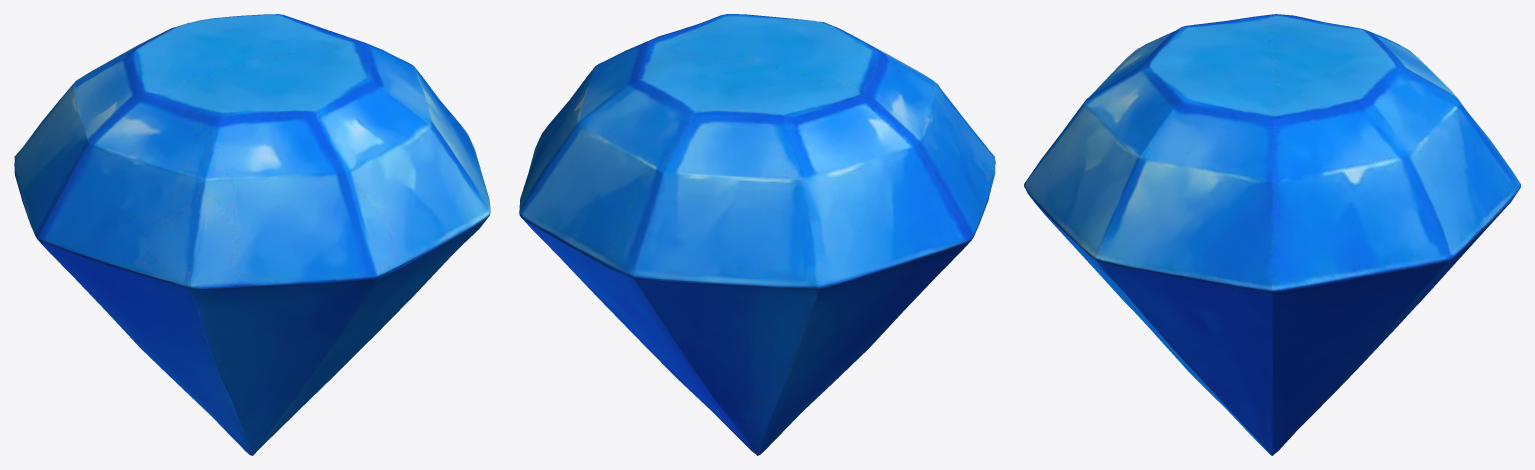
File: gemme.glb
3 views of the same model, side by side, from view 1: azimuth 30°, elevation 25°; view 2: azimuth 150°, elevation 25°; view 3: azimuth 270°, elevation 25° (orthographic).
Parts seen in each view (by area): view 1: geometry_0; view 2: geometry_0; view 3: geometry_0.
Part boxes in pixels (x1,y1,x2,y2): geometry_0: [14, 14, 490, 455]; geometry_0: [519, 14, 995, 455]; geometry_0: [1024, 14, 1520, 455].
Bounding box in the file's own units: 0.9487 × 0.8311 × 0.9483.
Materials: 1 (1 with a texture image).
